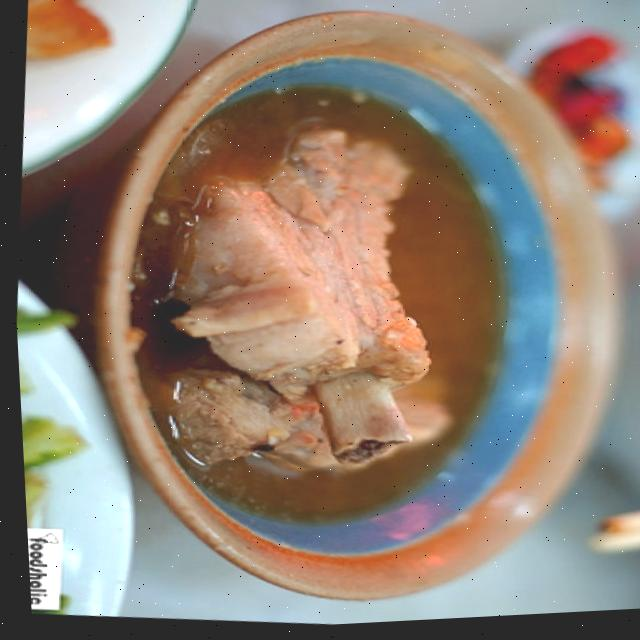汤锅炖物: (67, 14, 640, 624)
